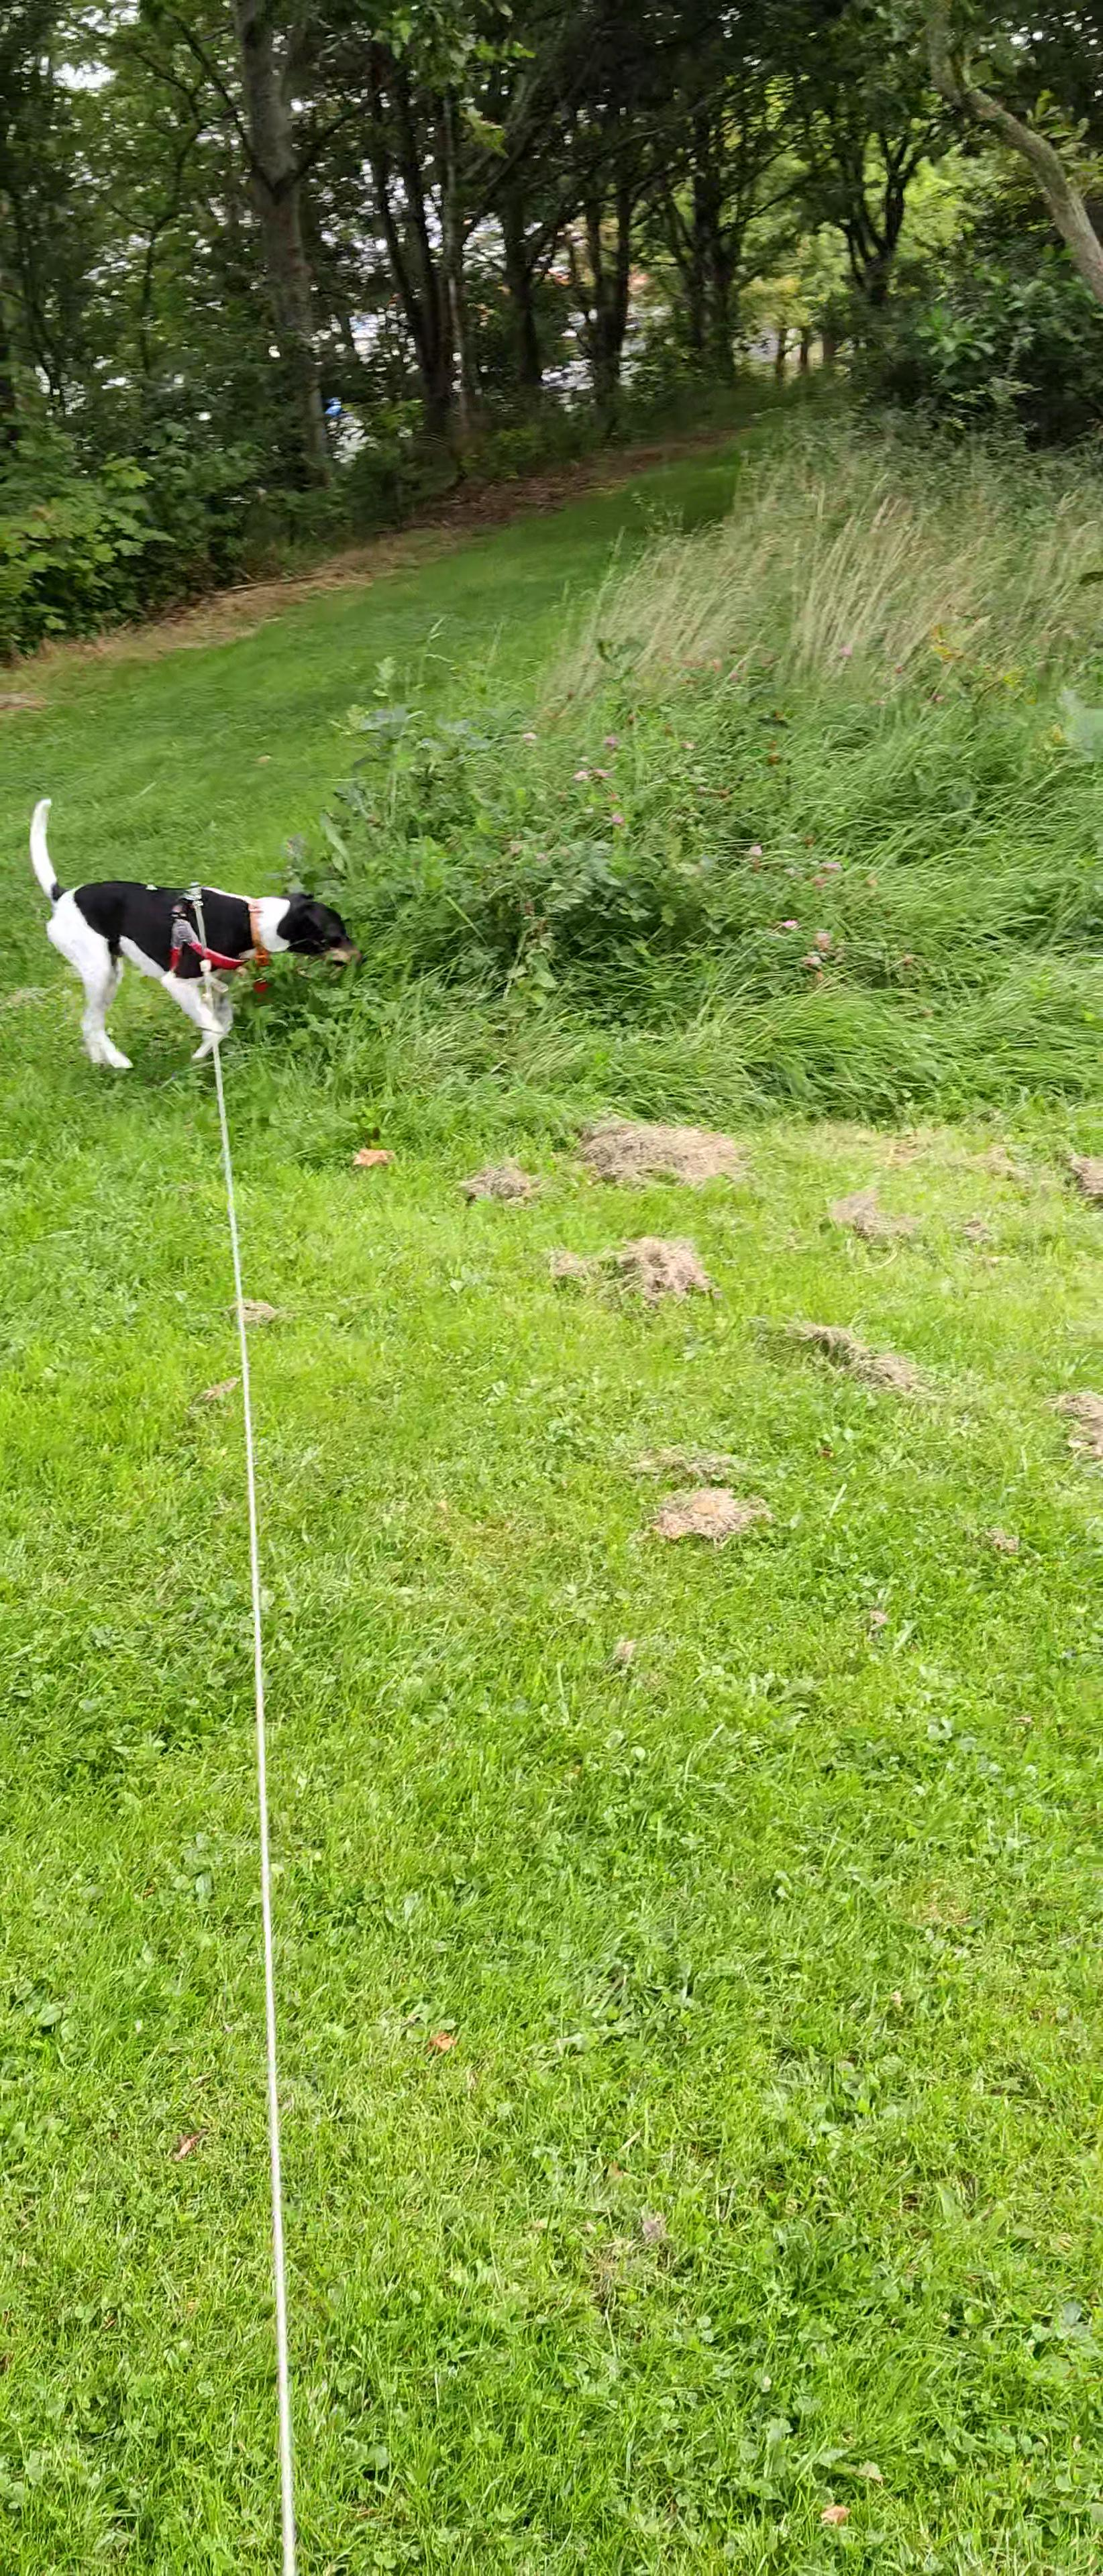Dog: (20, 790, 368, 1076)
